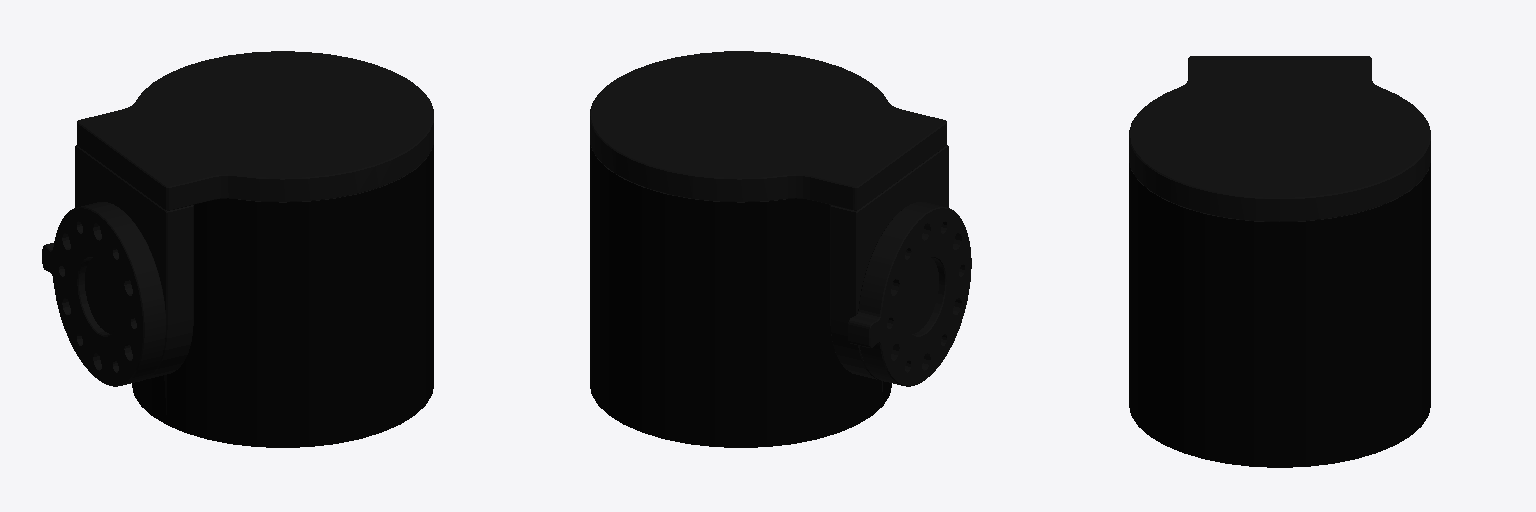
3 renders of one model, left to right at view 1: azimuth 30°, elevation 25°; view 2: azimuth 150°, elevation 25°; view 3: azimuth 270°, elevation 25°, orthographic.
Parts seen in each view (by area): view 1: arm_link4; view 2: arm_link4; view 3: arm_link4.
Part boxes in pixels (x1,y1,x2,y2): arm_link4: (42, 51, 433, 447); arm_link4: (590, 51, 971, 447); arm_link4: (1129, 56, 1430, 467).
Size of the model in its own units: 0.0688 by 0.056 by 0.057.